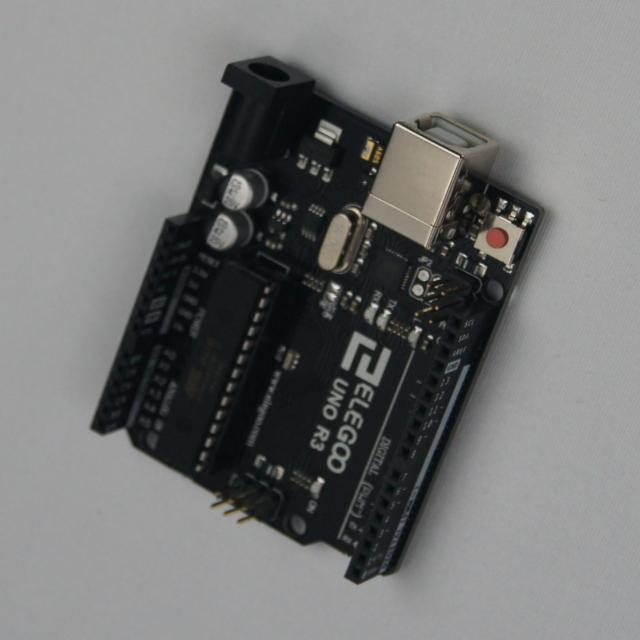Arduino Uno -Black-: (92, 58, 543, 584)
